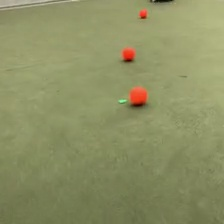ball: (129, 85, 149, 107), (122, 46, 135, 63), (138, 7, 148, 18)
